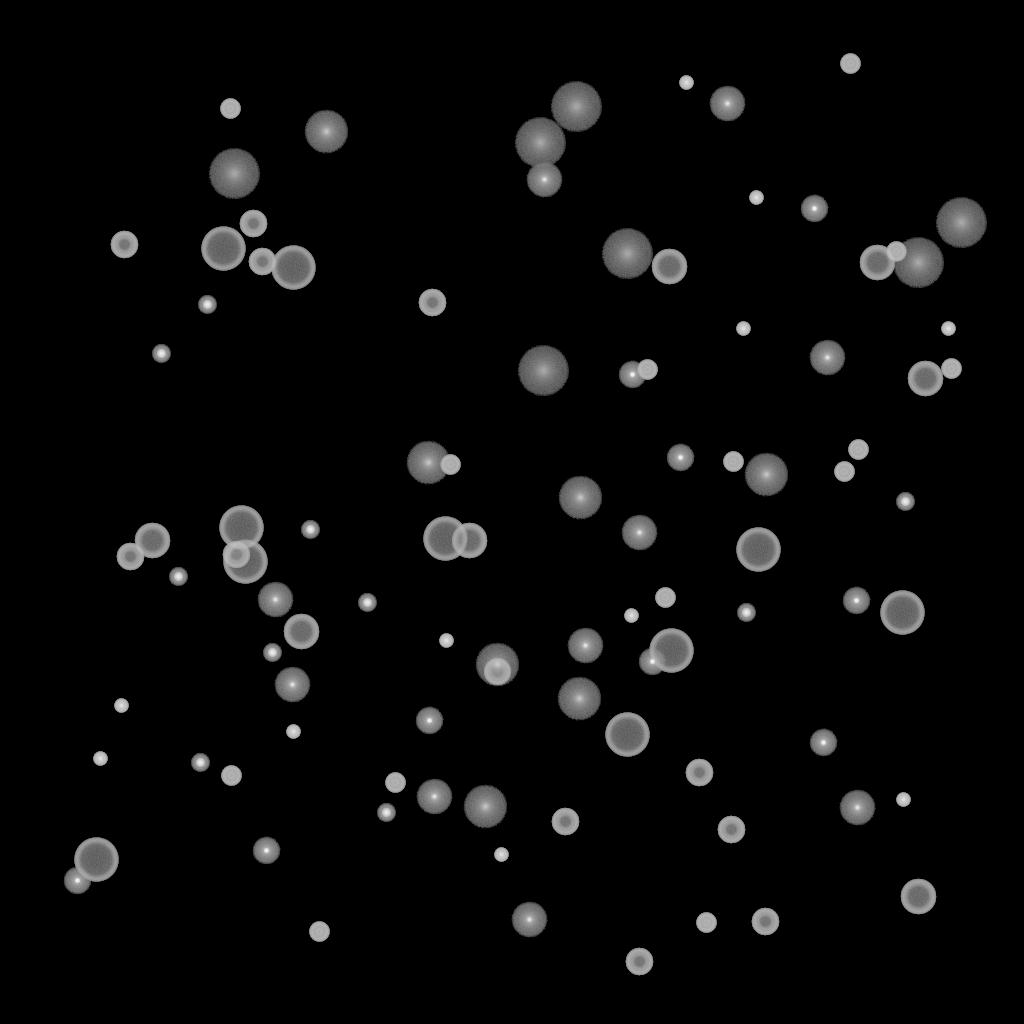depth:-10: (842, 587, 870, 615), (809, 729, 837, 757), (415, 707, 443, 735), (638, 648, 666, 676), (618, 361, 646, 389), (666, 444, 694, 472), (63, 867, 91, 895), (800, 195, 828, 223), (252, 837, 280, 865)
depth:-20: (152, 345, 170, 363), (198, 296, 216, 314), (263, 644, 281, 662), (169, 568, 187, 586), (737, 604, 755, 622), (191, 754, 209, 772), (358, 594, 376, 612), (301, 521, 319, 539), (377, 804, 395, 822), (896, 493, 914, 511)
depth:-30: (624, 609, 638, 623), (736, 322, 750, 336), (941, 322, 955, 336), (896, 793, 910, 807), (439, 634, 453, 648), (286, 725, 300, 739), (494, 848, 508, 862), (749, 191, 763, 205), (114, 699, 128, 713), (679, 76, 693, 90), (93, 752, 107, 766)
depth:-40: (848, 440, 868, 460), (385, 773, 405, 793), (637, 360, 657, 380), (655, 588, 675, 608), (834, 462, 854, 482), (220, 99, 240, 119), (696, 913, 716, 933), (886, 242, 906, 262), (723, 452, 743, 472), (941, 359, 961, 379), (309, 922, 329, 942), (840, 54, 860, 74), (440, 455, 460, 475), (221, 766, 241, 786)
depth:-50: (717, 816, 745, 844), (248, 248, 276, 276), (110, 231, 138, 259), (751, 908, 779, 936), (418, 289, 446, 317), (685, 759, 713, 787), (483, 658, 511, 686), (222, 541, 250, 569), (625, 948, 653, 976), (239, 210, 267, 238), (116, 543, 144, 571), (551, 808, 579, 836)
depth:-60: (907, 361, 943, 397), (451, 523, 487, 559), (651, 249, 687, 285), (283, 614, 319, 650), (900, 879, 936, 915), (134, 523, 170, 559), (859, 245, 895, 281)
depth:-70: (219, 506, 263, 550), (649, 629, 693, 673), (423, 517, 467, 561), (605, 713, 649, 757), (223, 540, 267, 584), (201, 227, 245, 271), (736, 528, 780, 572), (74, 838, 118, 882), (271, 246, 315, 290), (880, 591, 924, 635)
depth:0: (526, 162, 562, 198), (257, 582, 293, 618), (567, 628, 603, 664), (511, 902, 547, 938), (839, 790, 875, 826), (621, 515, 657, 551), (274, 667, 310, 703), (809, 340, 845, 376), (709, 86, 745, 122), (416, 779, 452, 815)
depth:10: (475, 643, 519, 687), (744, 453, 788, 497), (558, 476, 602, 520), (557, 677, 601, 721), (304, 110, 348, 154), (406, 441, 450, 485), (463, 785, 507, 829)
depth:20: (517, 346, 569, 396), (601, 229, 653, 279), (514, 118, 566, 168), (208, 149, 260, 199), (892, 238, 944, 288), (935, 198, 987, 248), (550, 82, 602, 132)
